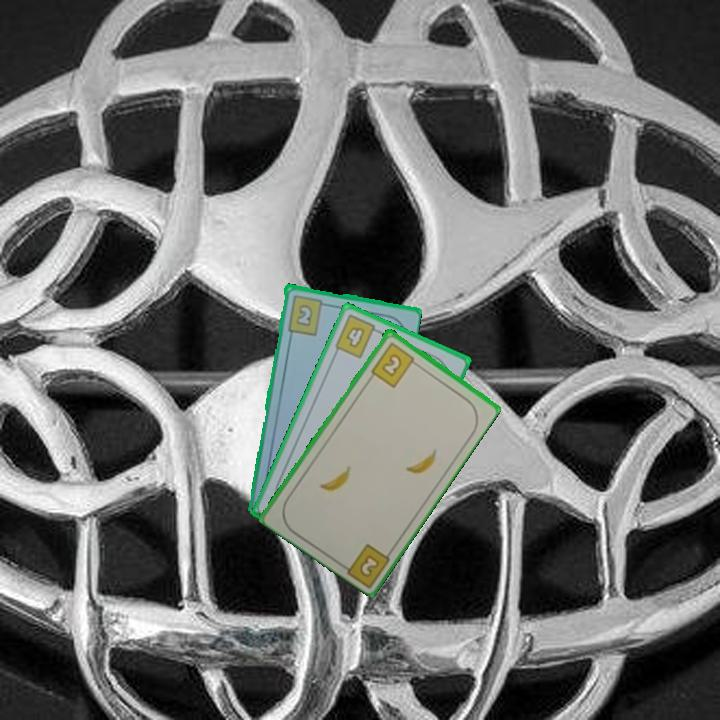2b: (367, 338, 421, 390), (284, 291, 331, 337), (355, 551, 383, 580)
4b: (331, 311, 384, 361)
